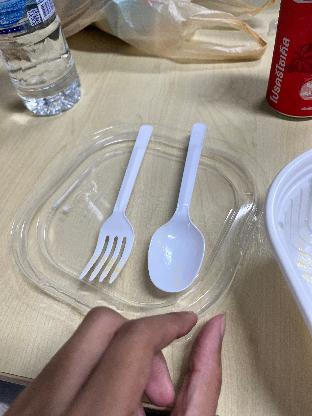Others: (141, 121, 226, 294), (82, 124, 166, 290)
